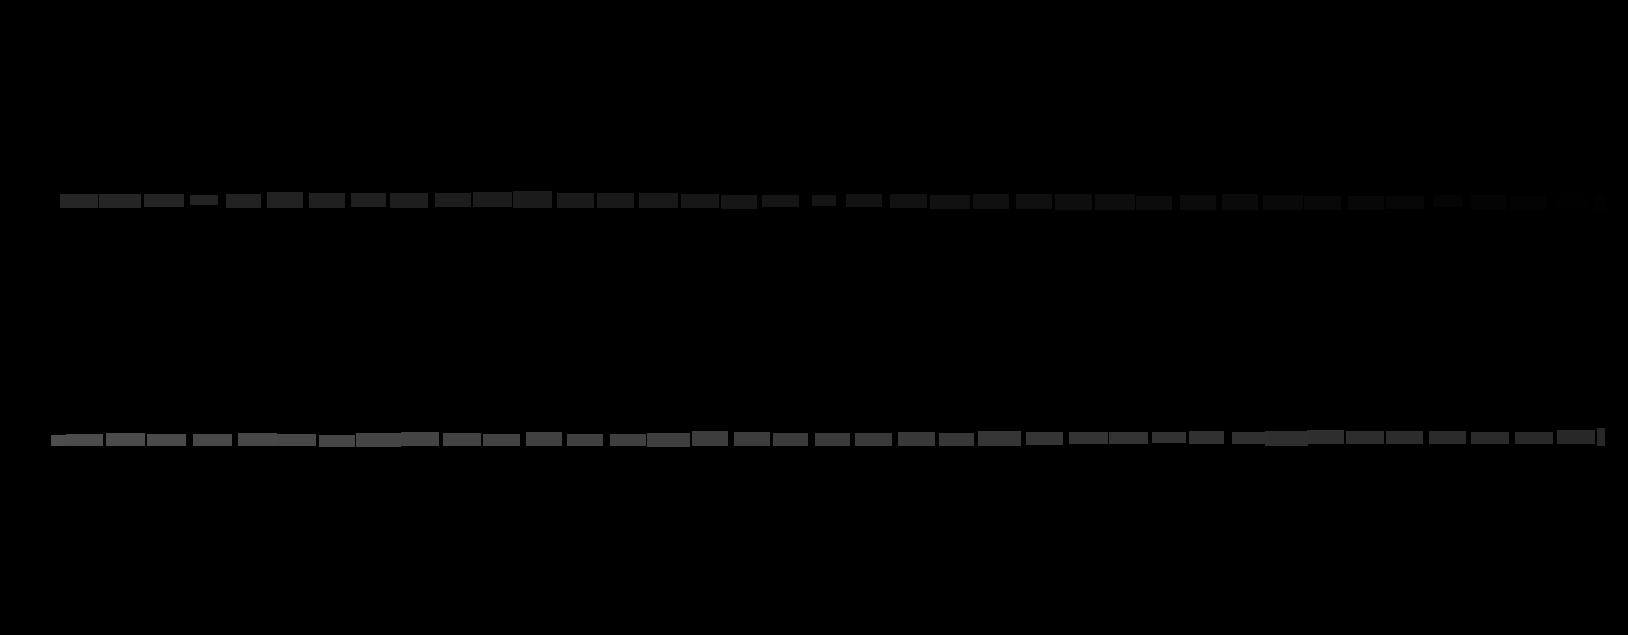light: (1265, 431, 1308, 446), (978, 431, 1021, 446), (513, 191, 552, 208), (356, 433, 401, 447), (647, 433, 690, 447), (1095, 194, 1135, 210), (473, 192, 512, 208), (1263, 195, 1303, 210), (1055, 194, 1092, 210), (99, 194, 141, 208), (639, 193, 678, 208), (1222, 194, 1258, 210), (267, 192, 303, 208), (691, 431, 728, 446), (401, 432, 439, 446), (597, 193, 634, 208), (557, 193, 594, 208), (390, 193, 428, 208), (1557, 430, 1595, 444), (898, 432, 935, 446), (930, 195, 970, 209), (144, 194, 184, 208), (238, 433, 277, 446), (106, 433, 145, 446), (973, 194, 1009, 209), (435, 193, 471, 208), (1307, 430, 1344, 444), (734, 432, 770, 446), (681, 194, 720, 208), (1346, 431, 1384, 444), (1554, 194, 1590, 209), (1181, 195, 1216, 210), (1016, 194, 1052, 209), (351, 193, 386, 208), (309, 193, 345, 208), (526, 432, 562, 446), (1304, 196, 1341, 210), (890, 194, 927, 208), (60, 194, 98, 208), (1429, 431, 1466, 444), (1386, 431, 1423, 444), (1026, 432, 1063, 445), (854, 433, 892, 446), (443, 433, 481, 446), (1471, 195, 1505, 210), (1109, 432, 1148, 444), (1348, 196, 1384, 210), (1136, 196, 1172, 210), (721, 195, 757, 209), (1386, 196, 1424, 209), (1515, 432, 1553, 444), (1069, 432, 1108, 444), (277, 434, 316, 446), (193, 434, 232, 446), (147, 434, 186, 446), (846, 194, 881, 208), (1189, 431, 1224, 444), (939, 433, 974, 446), (815, 433, 850, 446), (762, 195, 799, 208), (1471, 432, 1509, 444), (483, 434, 520, 446), (226, 194, 261, 208), (774, 433, 808, 446), (1510, 196, 1546, 209), (567, 434, 603, 446), (319, 435, 355, 447), (66, 434, 103, 446), (1232, 432, 1268, 444), (610, 434, 646, 446), (1152, 432, 1186, 443), (1434, 195, 1462, 208), (190, 195, 218, 205), (812, 195, 836, 206), (51, 435, 66, 446), (1595, 194, 1605, 210), (1597, 427, 1605, 446)
